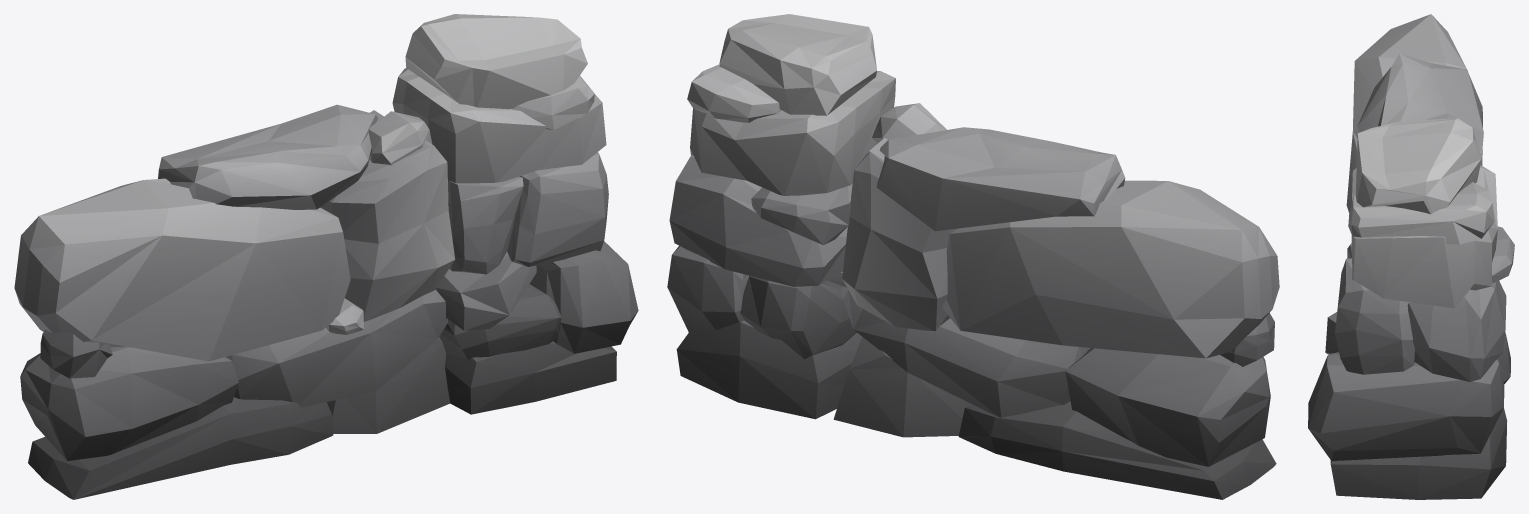
File: RoadFenceStone_Sml-03.FBX
3 views of the same model, side by side, from view 1: azimuth 30°, elevation 25°; view 2: azimuth 150°, elevation 25°; view 3: azimuth 270°, elevation 25° (orthographic). The views are drawn at different scales.
Visible parts, largest first — view 1: RoadFenceStone_Sml-03; view 2: RoadFenceStone_Sml-03; view 3: RoadFenceStone_Sml-03.
Boxes of the visible parts, bbox=[...] form: RoadFenceStone_Sml-03: bbox=[14, 14, 638, 499]; RoadFenceStone_Sml-03: bbox=[667, 14, 1279, 499]; RoadFenceStone_Sml-03: bbox=[1308, 14, 1514, 499].
Bounding box in the file's own units: 225 × 131 × 76.09.
1 material, 1 textured.
